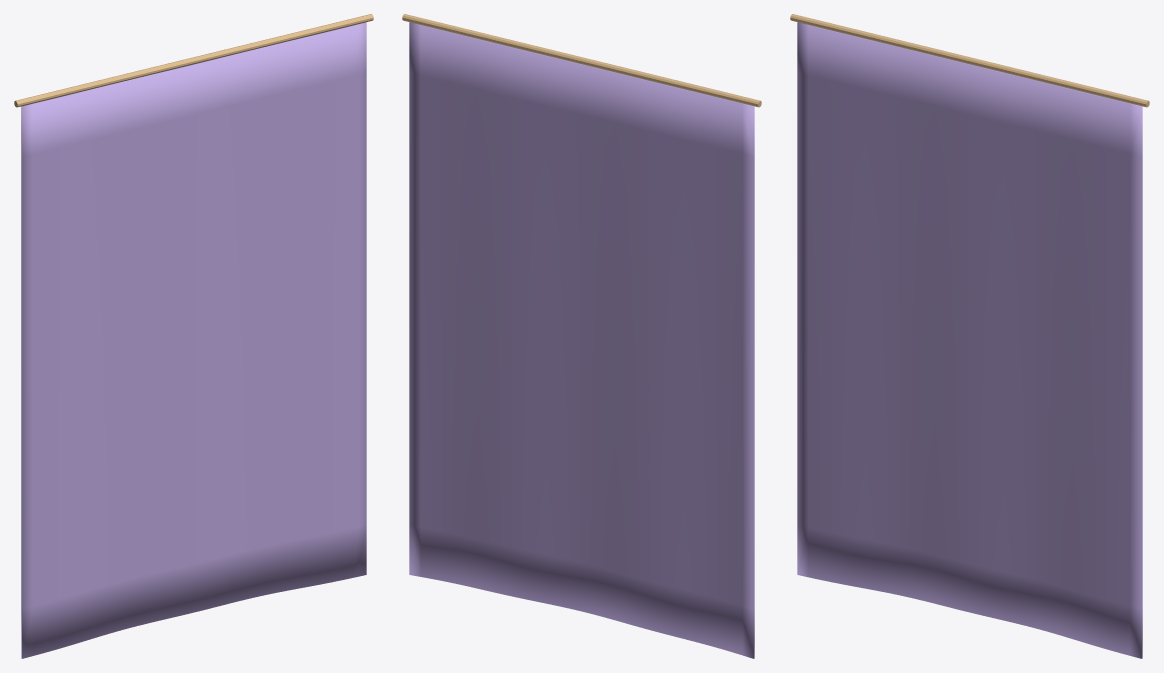
File: tapestry.glb
3 renders of one model, left to right at view 1: azimuth 30°, elevation 25°; view 2: azimuth 150°, elevation 25°; view 3: azimuth 330°, elevation 25°, orthographic.
Parts seen in each view (by area): view 1: tapestry; view 2: tapestry; view 3: tapestry.
Boxes of the visible parts, left/top/right/bottom form: tapestry: left=14, top=14, right=373, bottom=658; tapestry: left=402, top=14, right=761, bottom=658; tapestry: left=790, top=14, right=1149, bottom=658.
Size of the model in its own units: 0.6 by 0.9 by 0.01.
